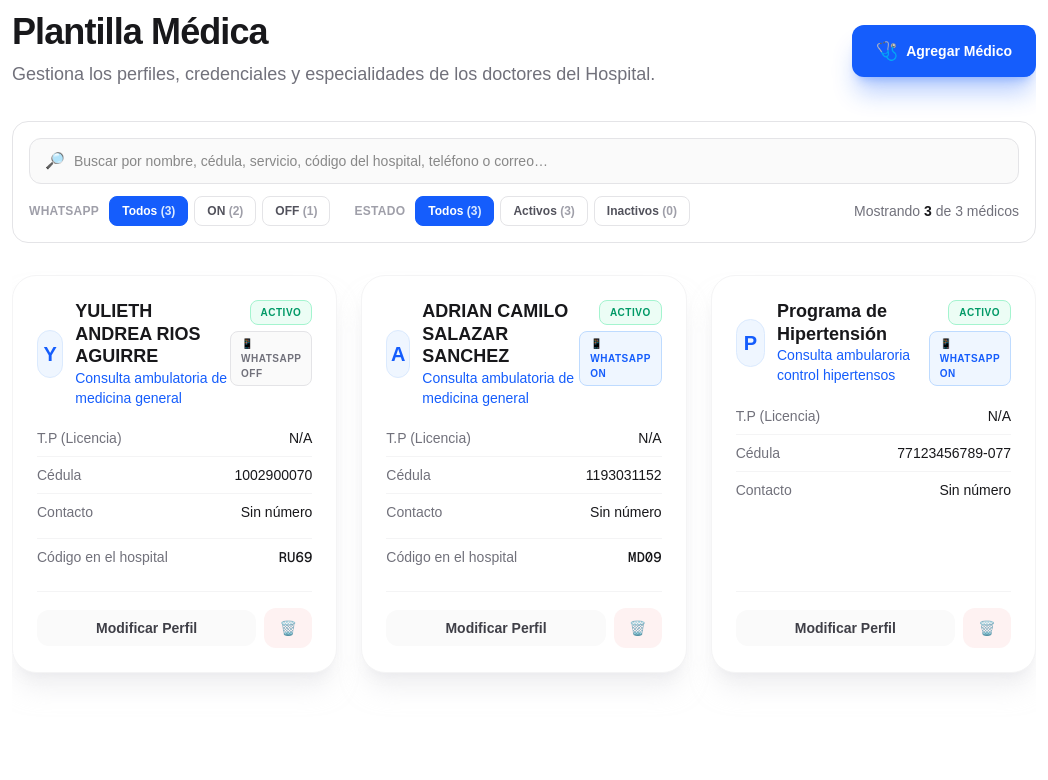
it: Médicos — buscar por lo que sea › 🧾 por el código del hospital (RU69) encuentra a la Dra. Yulieth, y la tarjeta lo muestra
The image size is (1048, 780).
Type "ru69" into the search field named "Buscar médicos" at (524, 161), box [29,138,1019,184]
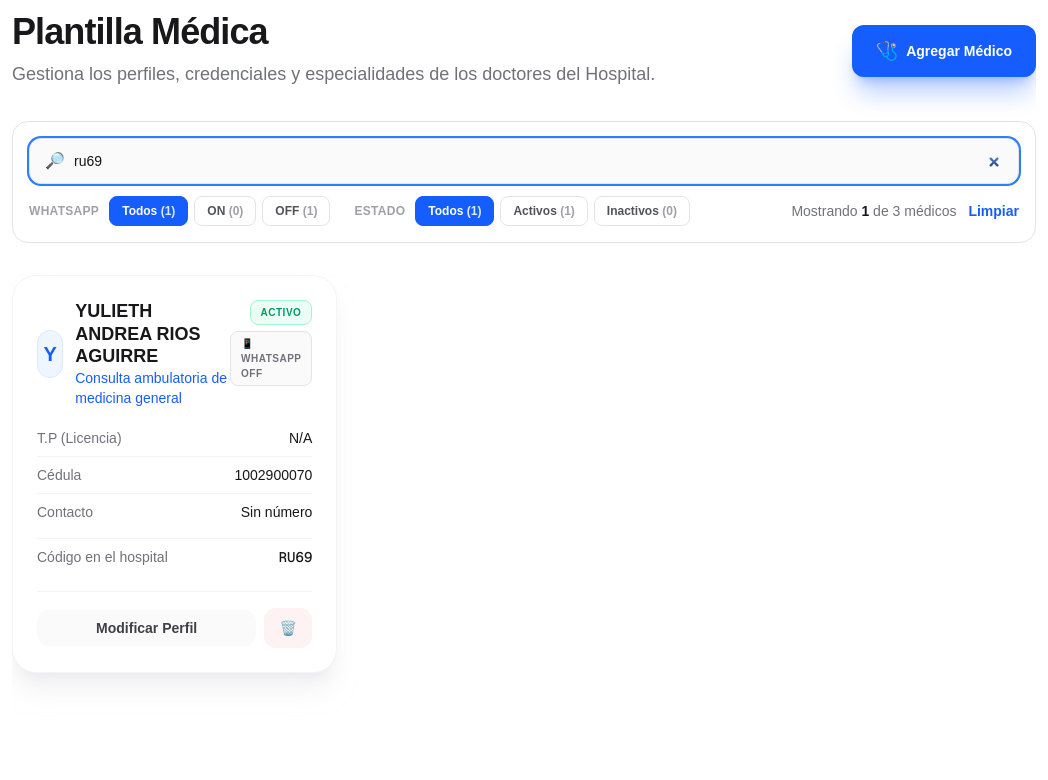
Expected: the text "RU69" is shown, [279,547,312,567]
Expected: the message shows "Mostrando 1 de 3 médicos", [791,201,1019,221]
